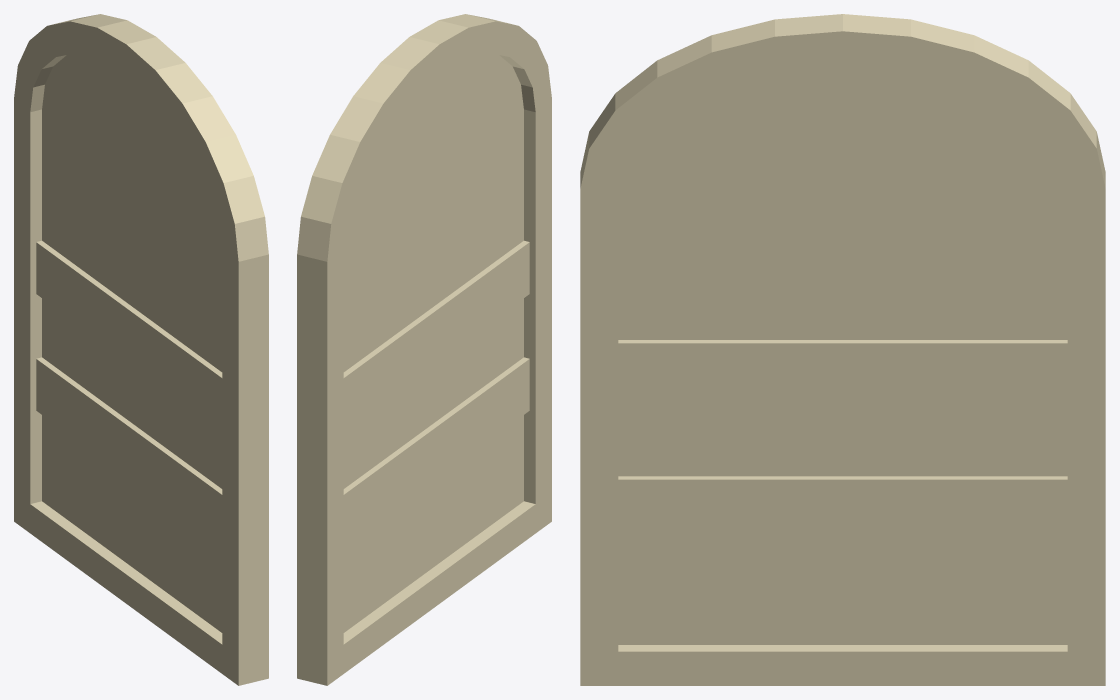
Rendered from gate.glb.
3 renders of one model, left to right at view 1: azimuth 30°, elevation 25°; view 2: azimuth 150°, elevation 25°; view 3: azimuth 270°, elevation 25°, orthographic. The views are drawn at different scales.
Visible parts, largest first — view 1: gate; view 2: gate; view 3: gate.
Boxes of the visible parts, left/top/right/bottom form: gate: left=14, top=14, right=268, bottom=685; gate: left=297, top=14, right=551, bottom=685; gate: left=580, top=14, right=1105, bottom=685.
Size of the model in its own units: 0.516 by 9.1 by 6.62.
